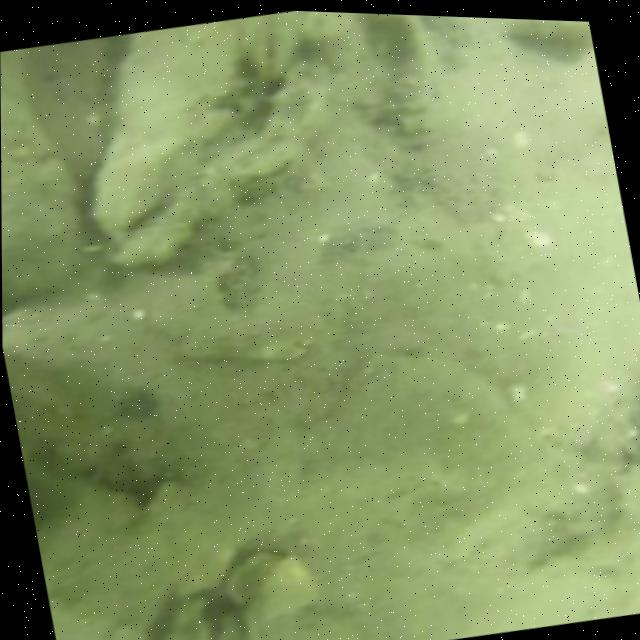Oyster-Closed: (230, 553, 312, 613), (233, 143, 294, 200), (254, 18, 296, 75)
Oyster-Indeterminate: (99, 17, 248, 259), (1, 88, 83, 303)
Oyster-Open: (160, 597, 264, 640)
